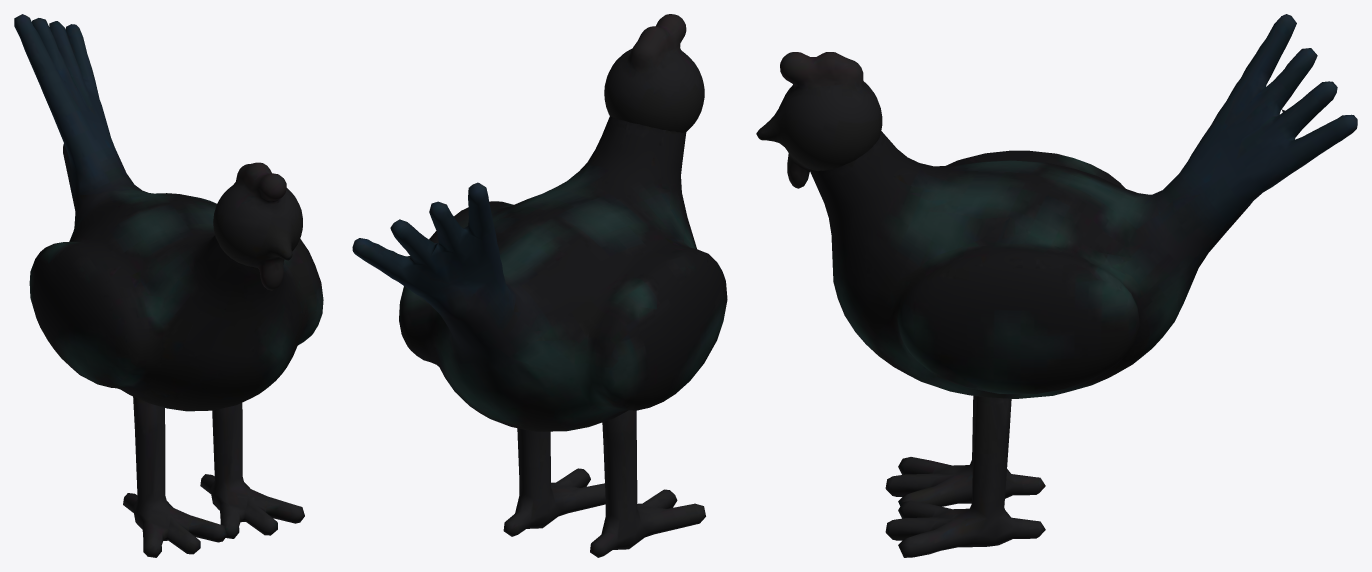
File: animal_ayam_cemani.glb
3 views of the same model, side by side, from view 1: azimuth 30°, elevation 25°; view 2: azimuth 150°, elevation 25°; view 3: azimuth 270°, elevation 25° (orthographic). The views are drawn at different scales.
Visible parts, largest first — view 1: animal_ayam_cemani, head, leg0, leg1; view 2: animal_ayam_cemani, head, leg0, leg1; view 3: animal_ayam_cemani, head, leg1, leg0.
Boxes of the visible parts, x1,y1,x2,y2 form: animal_ayam_cemani: (14, 14, 323, 411); head: (213, 162, 302, 290); leg0: (123, 396, 227, 557); leg1: (200, 403, 304, 538); animal_ayam_cemani: (352, 116, 727, 431); head: (604, 14, 704, 132); leg0: (590, 410, 705, 557); leg1: (503, 428, 605, 536); animal_ayam_cemani: (809, 14, 1357, 398); head: (756, 52, 882, 188); leg1: (885, 396, 1045, 557); leg0: (885, 396, 1045, 506).
Size of the model in its own units: 0.1801 by 0.3132 by 0.349.
Materials: 1 (1 with a texture image).
